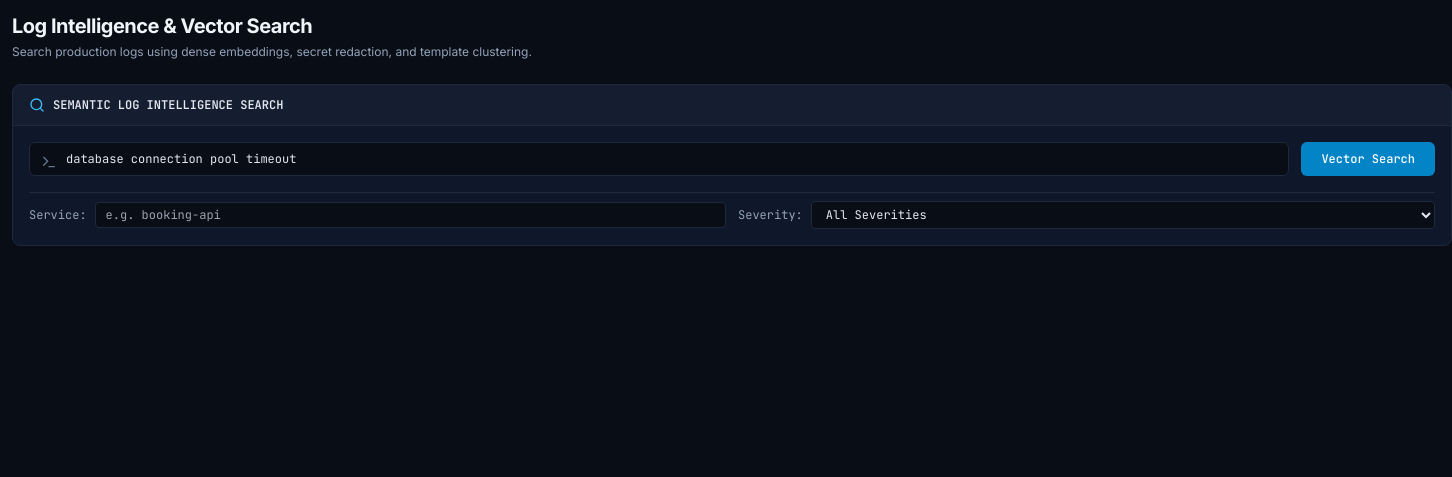
Scenario: Logs Page › renders log search interface and executes query
Expected: the heading "Log Intelligence & Vector Search" is shown, [12,14,312,38]
Click the button "Vector Search". click: (1368, 159)
box: [1301,142,1435,176]
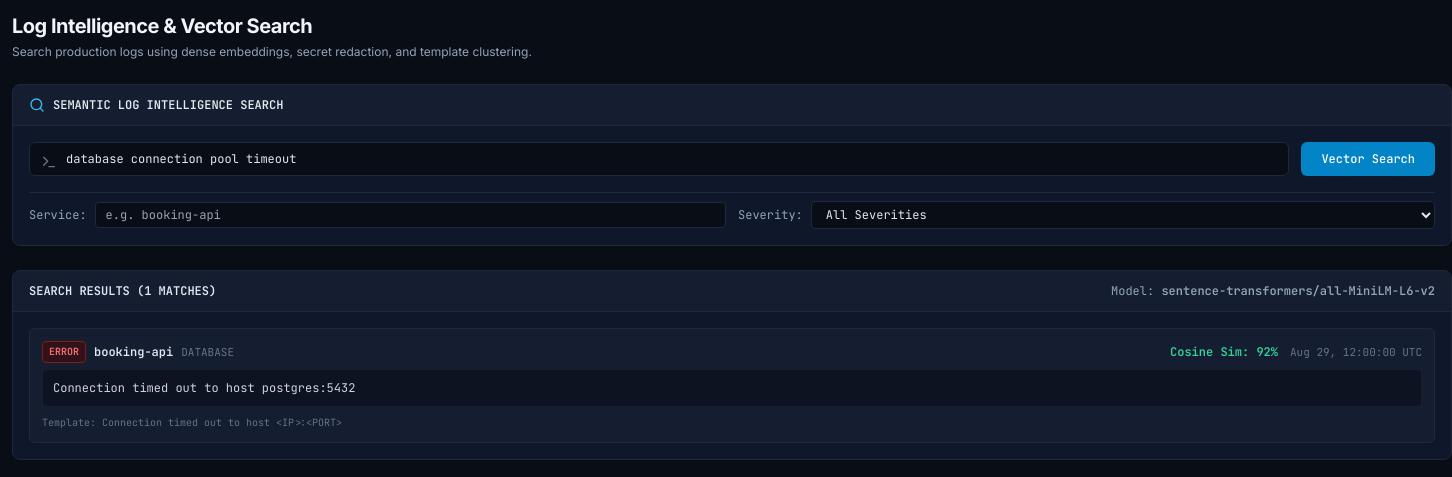
Expected: the text "Connection timed out to host postgres:5432" is shown, [42,369,1422,407]
Expected: the text "Cosine Sim: 92%" is shown, [1170,344,1278,360]
